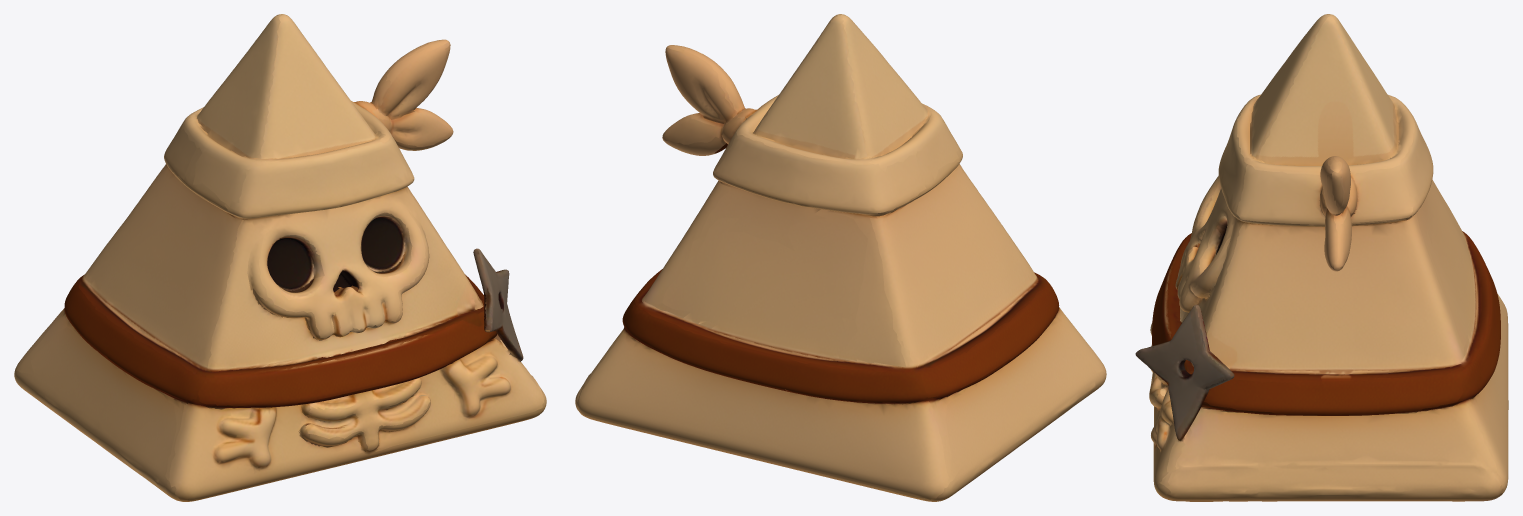
Rendered from skelettonshuri.fbx.
3 views of the same model, side by side, from view 1: azimuth 30°, elevation 25°; view 2: azimuth 150°, elevation 25°; view 3: azimuth 270°, elevation 25° (orthographic). The views are drawn at different scales.
Parts seen in each view (by area): view 1: node_b1a56476_9e04_48e8_b353_8fd6163b84e6_mesh0; view 2: node_b1a56476_9e04_48e8_b353_8fd6163b84e6_mesh0; view 3: node_b1a56476_9e04_48e8_b353_8fd6163b84e6_mesh0.
Boxes of the visible parts, bbox=[...] form: node_b1a56476_9e04_48e8_b353_8fd6163b84e6_mesh0: bbox=[14, 14, 546, 501]; node_b1a56476_9e04_48e8_b353_8fd6163b84e6_mesh0: bbox=[575, 14, 1106, 501]; node_b1a56476_9e04_48e8_b353_8fd6163b84e6_mesh0: bbox=[1135, 14, 1508, 501].
Size of the model in its own units: 197 by 194 by 164.
Materials: 1 (1 with a texture image).
